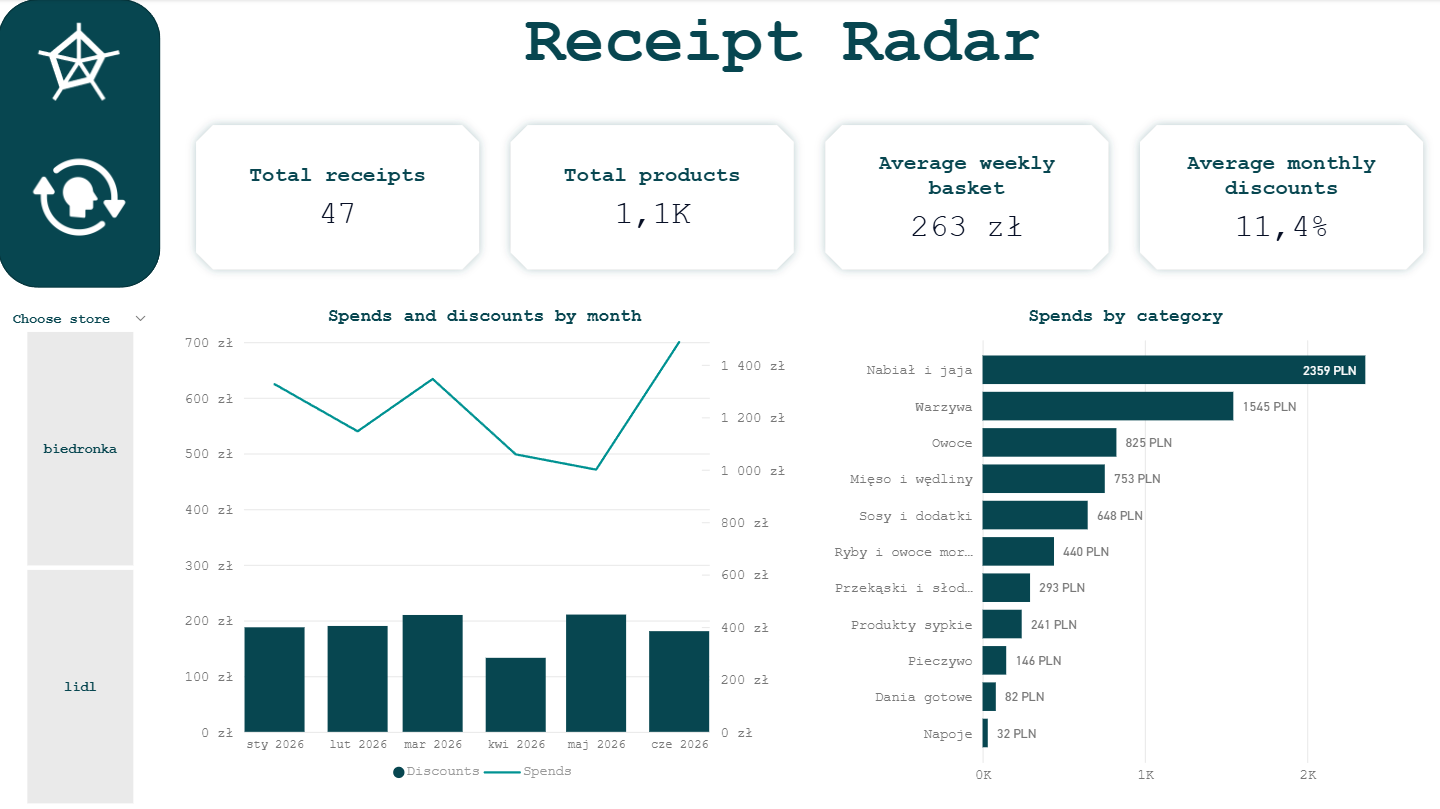

What the dashboard file says about the page in this screenshot:
{"tool":"powerbi","page":{"name":"Overview","canvas":[1280,720],"ordinal":0},"visuals":[{"type":"shape","box":[0,0,144,256],"z":0},{"type":"cardVisual","fields":{"Data":["_Measures.Total receipts","_Measures.Total products","_Measures.Average weekly basket","_Measures.Average discounts"]},"box":[160,96,1120,160],"z":1000},{"type":"lineStackedColumnComboChart","title":"Spends and discounts by month","fields":{"Category":["gold_monthly_spending.month_start"],"Y":["Sum(gold_monthly_spending.total_discount)"],"Y2":["Sum(gold_monthly_spending.total_spent)"]},"box":[160,272,544,432],"z":2000},{"type":"barChart","title":"Spends by category","fields":{"Category":["gold_category_spending.category"],"Y":["Sum(gold_category_spending.total_spent)"]},"box":[720,272,560,432],"z":3000},{"type":"slicer","fields":{"Values":["gold_dim_store.store"]},"box":[0,272,144,448],"z":4000},{"type":"textbox","box":[400,0,592,96],"z":5000},{"type":"image","box":[0,8,144,96],"z":6000},{"type":"image","box":[0,128,144,96],"z":7000}]}

Visuals, with their boxes in screenshot pixels (x1, y1, x2, y2), scaled from the page's 1280x720 canvas onto the 1440x809 screenshot:
shape: rect(0, 0, 162, 288)
cardVisual - _Measures.Total receipts x _Measures.Total products: rect(180, 108, 1439, 288)
"Spends and discounts by month" lineStackedColumnComboChart: rect(180, 306, 792, 791)
"Spends by category" barChart: rect(810, 306, 1439, 791)
slicer - gold_dim_store.store: rect(0, 306, 162, 808)
textbox: rect(450, 0, 1116, 108)
image: rect(0, 9, 162, 117)
image: rect(0, 144, 162, 252)
